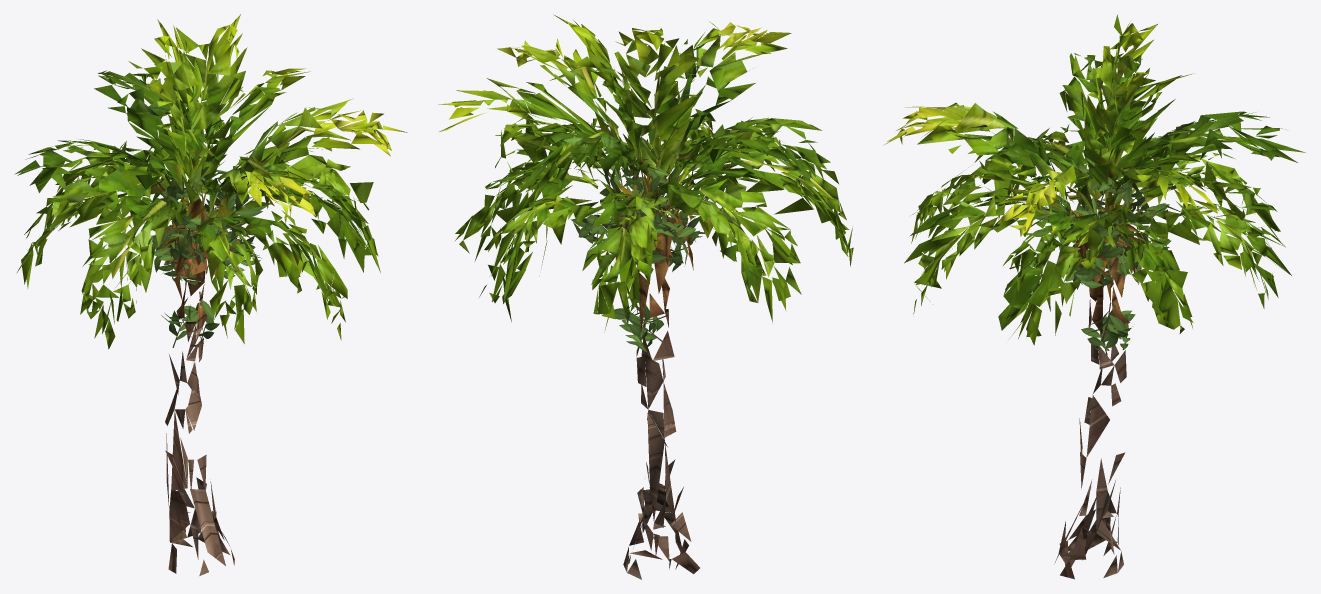
The model's file is palm-date-far.glb.
The picture shows the model from 3 angles, left to right: view 1: azimuth 30°, elevation 25°; view 2: azimuth 150°, elevation 25°; view 3: azimuth 270°, elevation 25°; orthographic projection. The views are drawn at different scales.
Visible parts, largest first — view 1: Foliage, Wood; view 2: Foliage, Wood; view 3: Foliage, Wood.
Boxes of the visible parts, left/top/right/bottom form: Foliage: left=14, top=14, right=407, bottom=353; Wood: left=152, top=190, right=250, bottom=575; Foliage: left=438, top=14, right=853, bottom=359; Wood: left=594, top=172, right=699, bottom=579; Foliage: left=883, top=14, right=1305, bottom=355; Wood: left=1055, top=176, right=1145, bottom=579.
Size of the model in its own units: 8.12 by 12.09 by 8.5.
2 materials, 2 textured.
